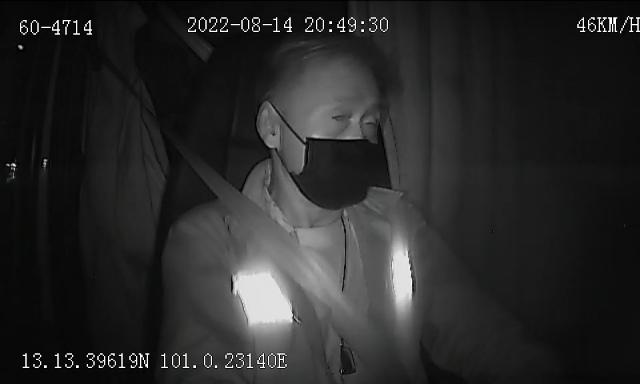Seatbelt: (168, 131, 392, 384)
